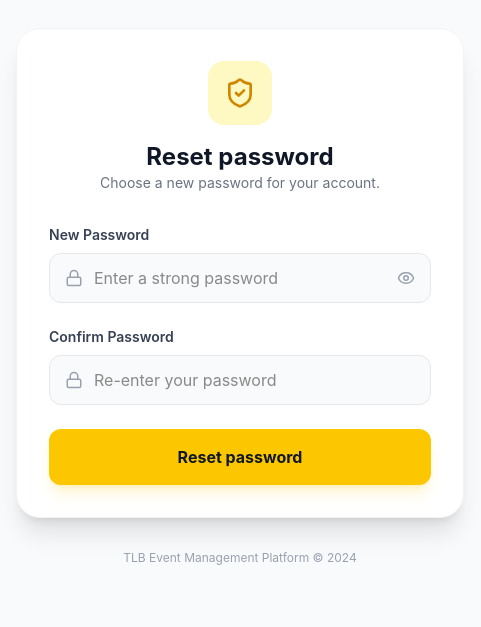
Scenario: ResetPasswordScreen › maps an invalid-token error to a friendly message
In the password field labelled "New Password": (240,278) x1=49 y1=253 x2=431 y2=303, type "Str0ng!pass"
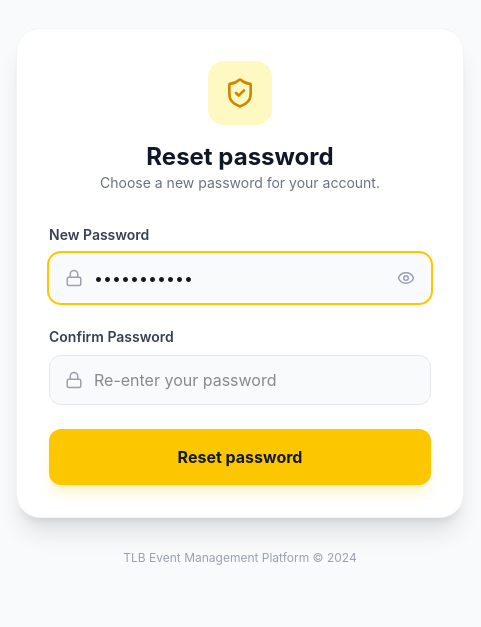
In the password field labelled "Confirm Password": (240,380) x1=49 y1=355 x2=431 y2=405, type "Str0ng!pass"
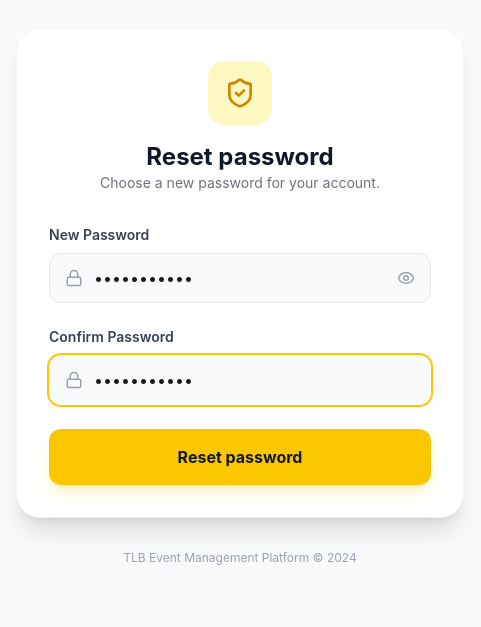
Click the button "Reset password": (240,457) x1=49 y1=429 x2=431 y2=485
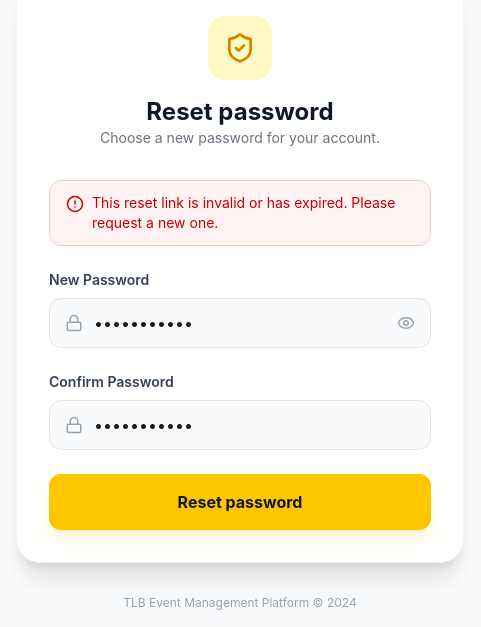
Now the text "reset link is invalid or has expired" is shown, box x1=92 y1=194 x2=395 y2=231
